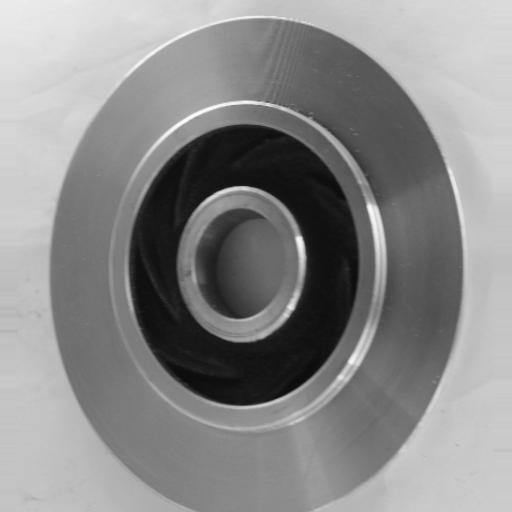unpolished_casting: (44, 16, 470, 512)
